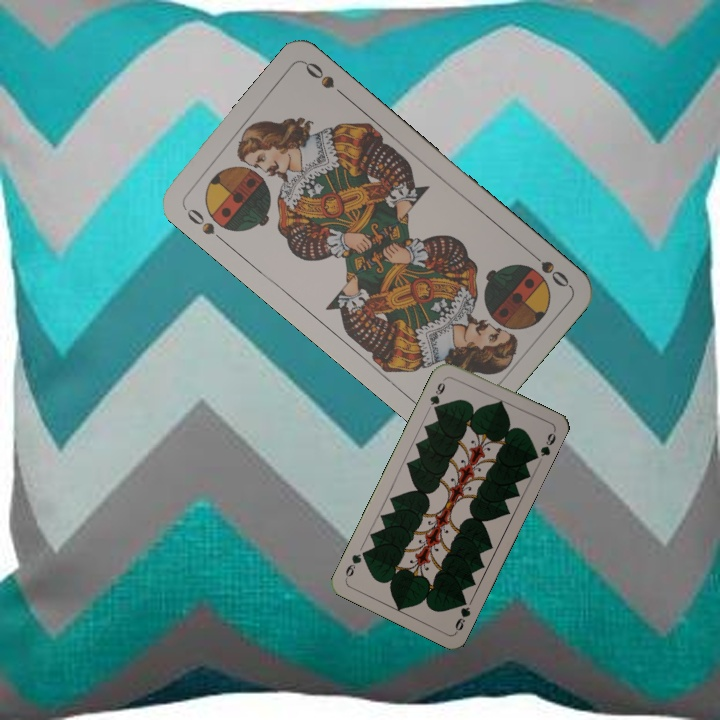G9: (426, 374, 449, 414), (451, 594, 473, 635)
SO: (523, 246, 572, 290), (180, 203, 229, 246)
